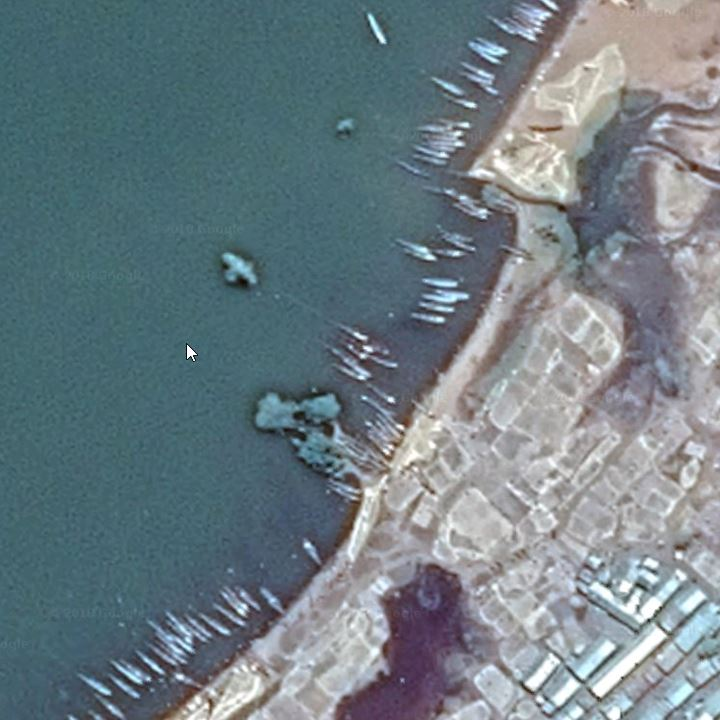boat: (358, 394, 408, 434), (326, 343, 377, 382), (154, 620, 198, 657), (145, 638, 187, 674), (104, 669, 146, 703), (360, 3, 391, 49), (153, 629, 193, 662), (447, 190, 495, 217), (162, 606, 198, 641), (153, 639, 193, 670), (255, 584, 290, 619), (194, 609, 236, 638), (176, 615, 214, 647), (73, 671, 118, 698), (211, 600, 250, 631), (166, 617, 202, 650), (131, 645, 168, 677), (232, 582, 265, 616), (218, 589, 251, 622), (222, 582, 254, 616), (299, 532, 326, 571), (118, 654, 153, 684), (109, 659, 146, 687), (362, 381, 399, 409), (362, 420, 396, 450), (327, 321, 371, 344), (182, 612, 216, 641), (91, 694, 127, 720), (435, 224, 478, 245), (477, 188, 519, 209), (366, 428, 393, 460), (483, 14, 519, 38), (322, 486, 365, 506), (405, 312, 452, 330), (171, 670, 206, 694), (375, 410, 403, 440), (362, 348, 399, 370), (327, 476, 365, 497), (333, 363, 371, 384), (429, 75, 465, 97), (407, 396, 437, 422), (450, 203, 490, 222), (369, 417, 397, 444), (474, 37, 513, 56), (479, 197, 516, 217), (391, 237, 431, 255), (463, 47, 503, 65), (414, 300, 458, 316), (441, 236, 478, 255), (439, 93, 480, 110), (499, 244, 537, 262), (457, 62, 495, 80), (360, 338, 393, 358), (418, 275, 464, 289), (431, 286, 473, 301), (395, 161, 430, 179), (403, 246, 440, 263), (408, 145, 452, 159), (413, 124, 464, 136), (409, 152, 452, 166), (467, 43, 507, 58), (342, 340, 369, 361), (418, 293, 457, 307), (462, 71, 495, 86), (435, 246, 472, 259), (435, 116, 473, 128), (418, 131, 461, 141), (425, 139, 468, 148), (423, 186, 457, 197), (477, 84, 503, 97), (422, 144, 460, 152), (86, 707, 105, 720)
